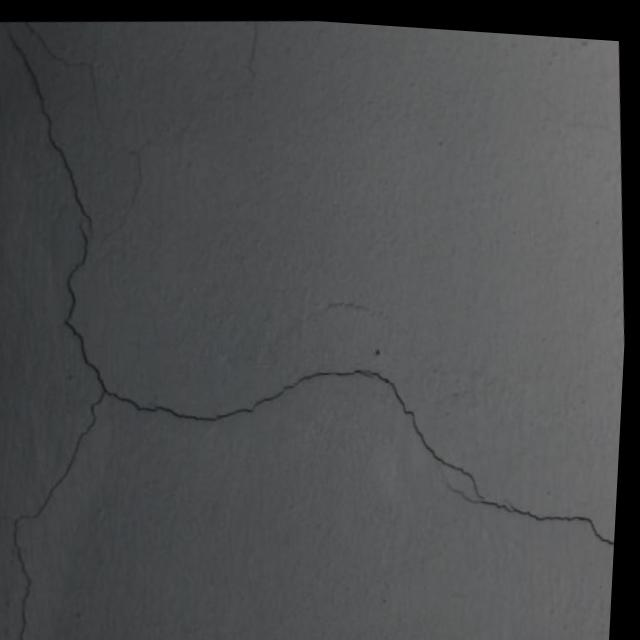Crack: (106, 320, 627, 583), (0, 14, 133, 392), (0, 387, 129, 640)
